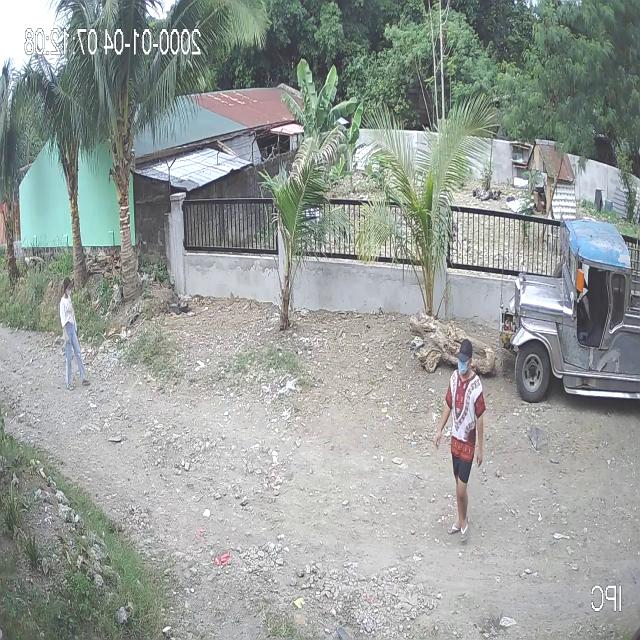walking: (432, 333, 487, 545), (56, 274, 91, 393)
